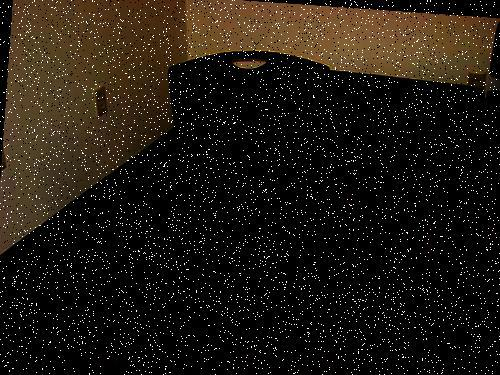Silla: (149, 47, 356, 361), (302, 63, 485, 269)
